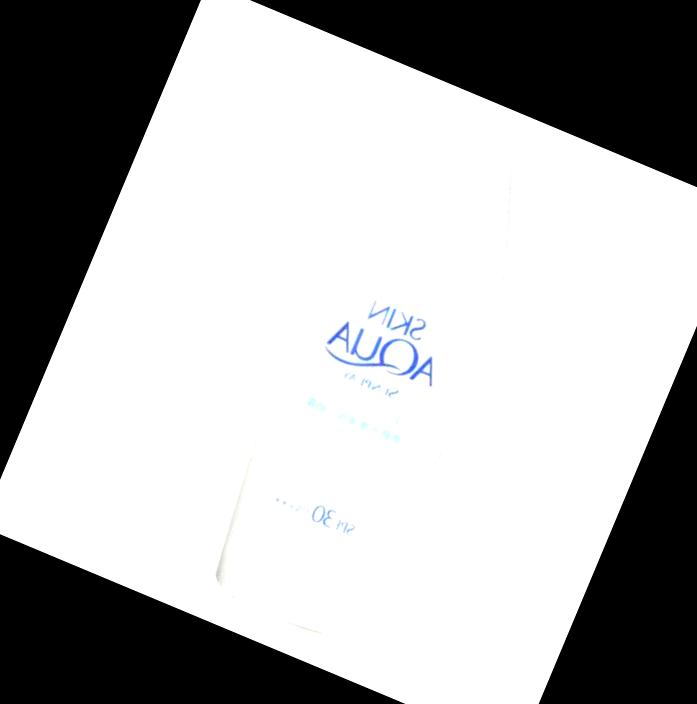cosmetic: (201, 109, 549, 636)
